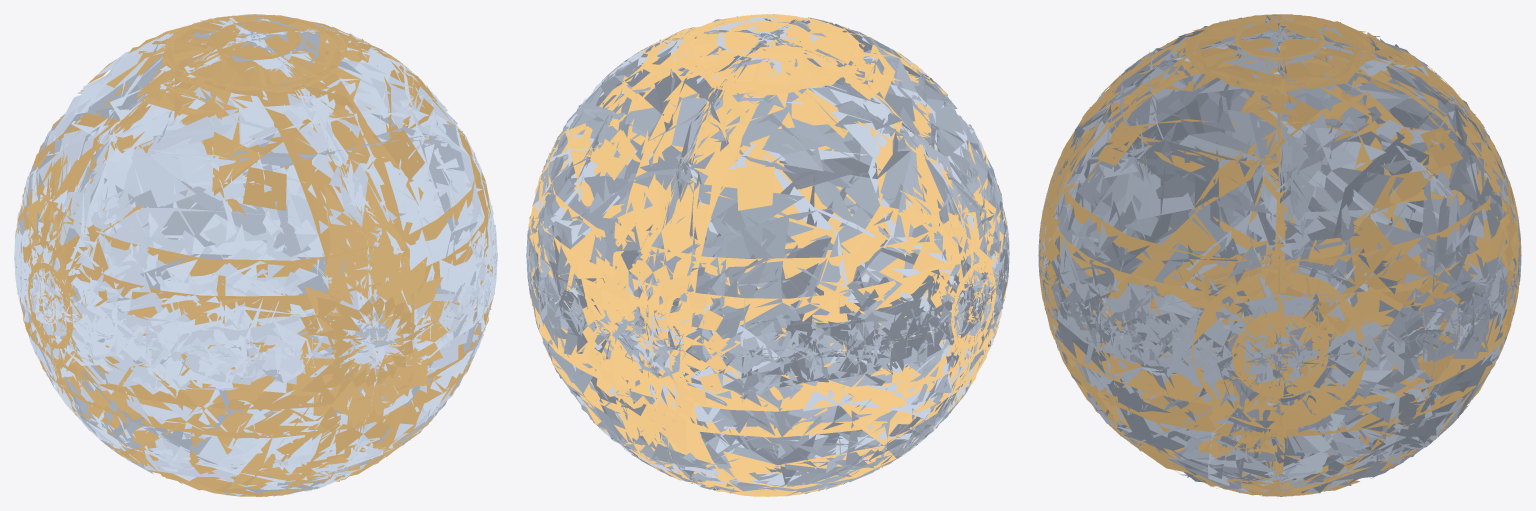
3 views of the same model, side by side, from view 1: azimuth 30°, elevation 25°; view 2: azimuth 150°, elevation 25°; view 3: azimuth 270°, elevation 25° (orthographic).
Visible parts, largest first — view 1: 20B-20B-structural, 20B-20B-equipment; view 2: 20B-20B-structural, 20B-20B-equipment; view 3: 20B-20B-structural, 20B-20B-equipment.
Boxes of the visible parts, <box> form: 20B-20B-structural: <box>14,14,497,496</box>; 20B-20B-equipment: <box>14,14,495,496</box>; 20B-20B-structural: <box>526,14,1009,495</box>; 20B-20B-equipment: <box>528,14,1007,496</box>; 20B-20B-structural: <box>1038,15,1521,496</box>; 20B-20B-equipment: <box>1038,14,1521,496</box>.
Size of the model in its own units: 2 by 2 by 2.
